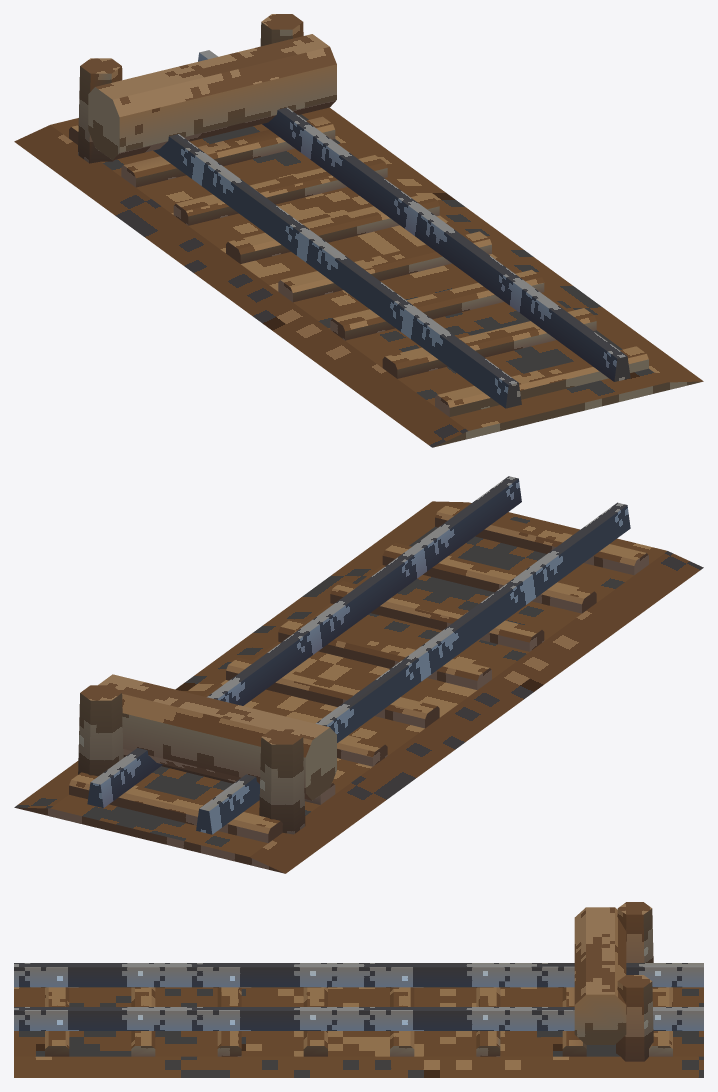
The model's file is wmine.track__end.glb.
The picture shows the model from 3 angles, top to bottom: view 1: azimuth 30°, elevation 25°; view 2: azimuth 150°, elevation 25°; view 3: azimuth 270°, elevation 25°; orthographic projection. The views are drawn at different scales.
Parts seen in each view (by area): view 1: kit_ballast, kit_rails, kit_ties, kit_chock; view 2: kit_ballast, kit_rails, kit_ties, kit_chock; view 3: kit_ballast, kit_rails, kit_chock, kit_ties.
Boxes of the visible parts, x1,y1,x2,y2 form: kit_ballast: (14,107,703,447); kit_rails: (153,50,630,408); kit_ties: (69,116,648,416); kit_chock: (78,14,336,163); kit_ballast: (14,501,703,873); kit_rails: (87,476,630,834); kit_ties: (69,504,648,843); kit_chock: (78,674,336,834); kit_ballast: (14,987,703,1077); kit_rails: (14,963,703,1030); kit_chock: (574,902,653,1061); kit_ties: (45,987,672,1056).
Size of the model in its own units: 1.5 by 0.502 by 4.
Materials: 4 (4 with a texture image).
